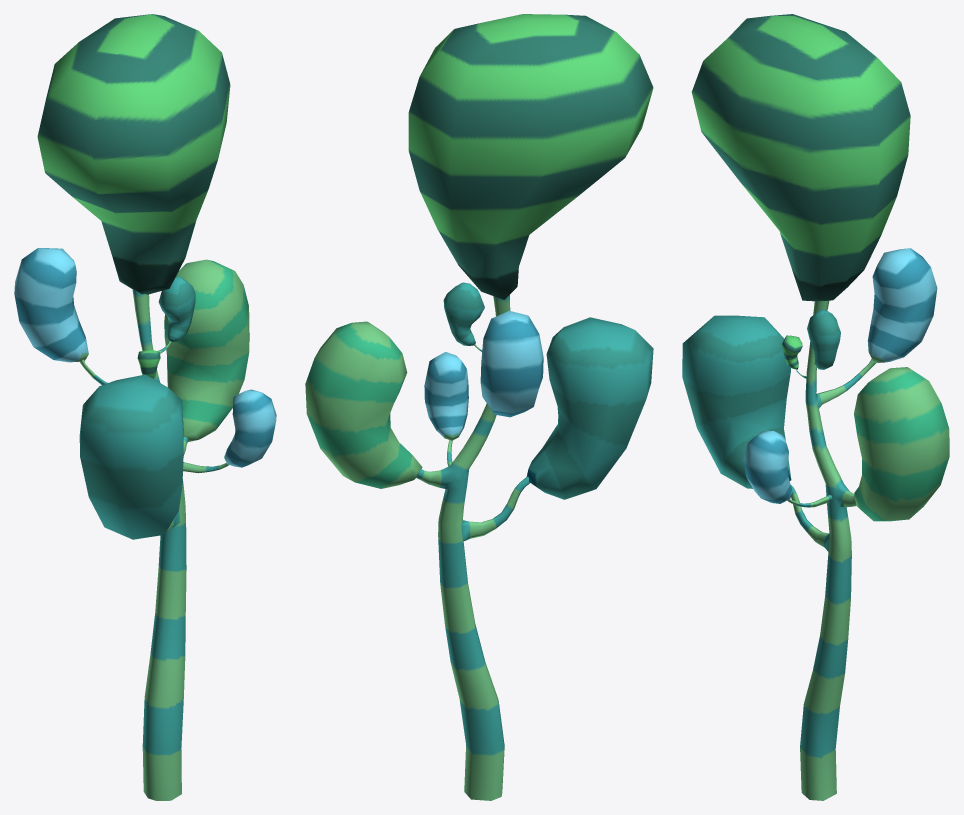
The model's file is tree_K.fbx.
3 renders of one model, left to right at view 1: azimuth 30°, elevation 25°; view 2: azimuth 150°, elevation 25°; view 3: azimuth 270°, elevation 25°, orthographic. The views are drawn at different scales.
Parts seen in each view (by area): view 1: treeF; view 2: treeF; view 3: treeF.
Part boxes in pixels (x1,y1,x2,y2): treeF: (14, 14, 276, 800); treeF: (305, 14, 653, 800); treeF: (682, 14, 949, 800).
Size of the model in its own units: 130 by 360 by 117.
